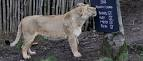lion: (4, 3, 97, 58)
